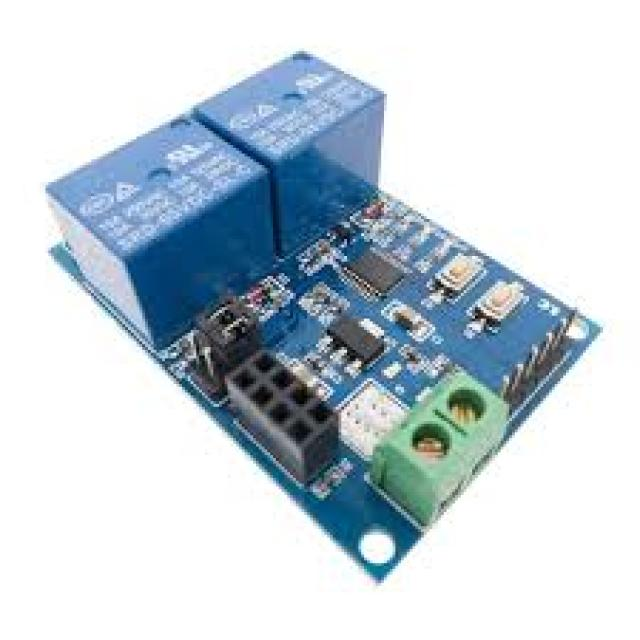Relay: (48, 51, 600, 586)
